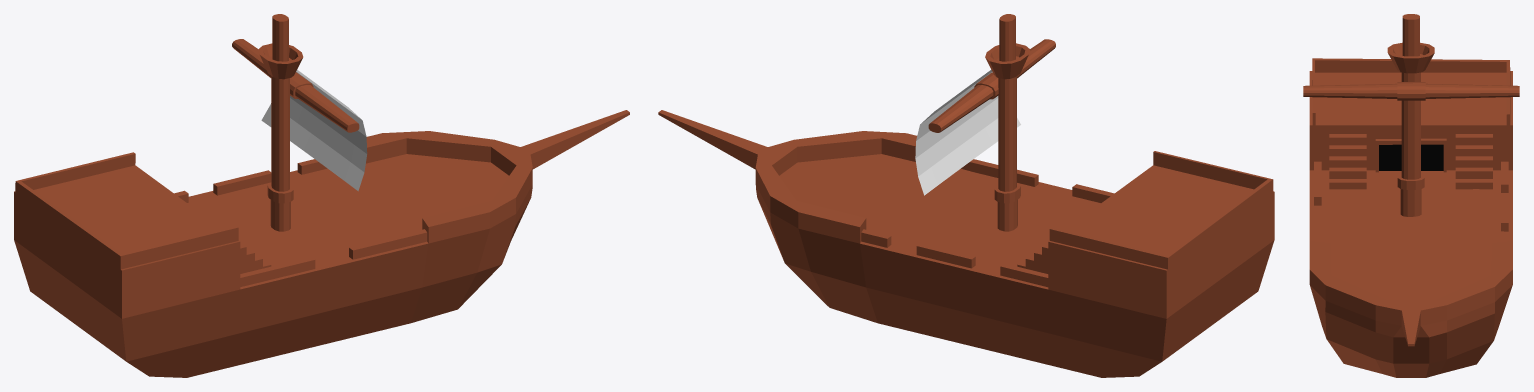
Rendered from navio_pequeno.glb.
3 renders of one model, left to right at view 1: azimuth 30°, elevation 25°; view 2: azimuth 150°, elevation 25°; view 3: azimuth 270°, elevation 25°, orthographic. The views are drawn at different scales.
Visible parts, largest first — view 1: Ship, Mastro, Plane, Railing, RightStair; view 2: Ship, Mastro, Plane, Railing, LeftStair; view 3: Ship, Mastro, RightStair, LeftStair, Door, Railing.
Boxes of the visible parts, x1,y1,x2,y2 form: Ship: [14, 110, 629, 377]; Mastro: [232, 14, 359, 231]; Plane: [261, 69, 367, 191]; Railing: [174, 159, 427, 286]; RightStair: [240, 242, 271, 273]; Ship: [658, 110, 1274, 377]; Mastro: [928, 14, 1055, 231]; Plane: [915, 70, 1020, 195]; Railing: [861, 159, 1114, 287]; LeftStair: [1017, 242, 1048, 273]; Ship: [1309, 58, 1512, 377]; Mastro: [1303, 14, 1519, 216]; RightStair: [1329, 134, 1366, 189]; LeftStair: [1455, 134, 1492, 189]; Door: [1375, 138, 1446, 172]; Railing: [1314, 161, 1508, 242].
Bounding box in the file's own units: 42.92 × 21.95 × 15.27.
